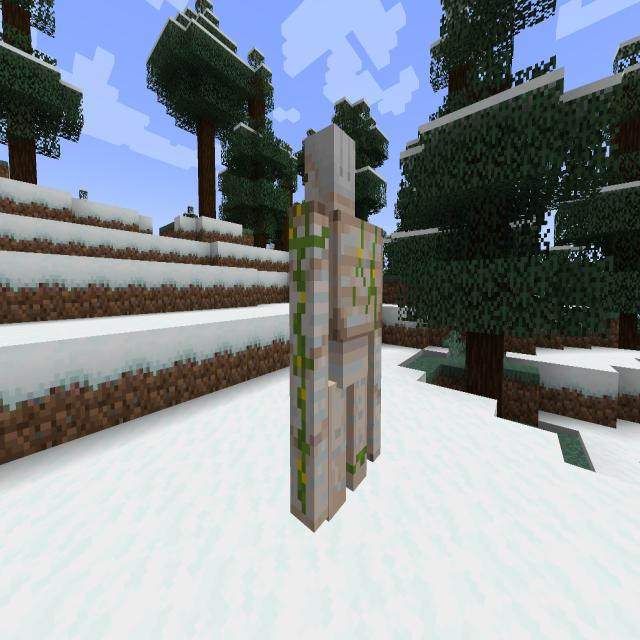iron golem: (274, 110, 400, 545)
